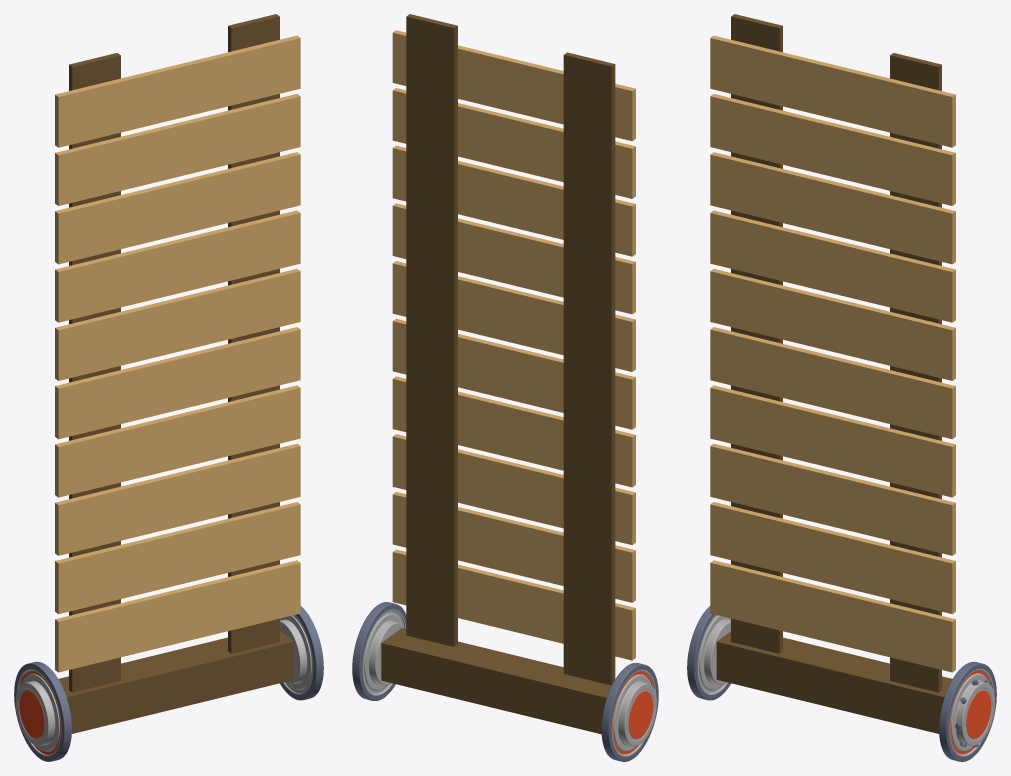
3 views of the same model, side by side, from view 1: azimuth 30°, elevation 25°; view 2: azimuth 150°, elevation 25°; view 3: azimuth 330°, elevation 25° (orthographic).
Visible parts, largest first — view 1: Cube.755, Cube.757, Cube.756, Cylinder.066; view 2: Cube.755, Cube.756, Cube.757, Cylinder.066; view 3: Cube.755, Cube.757, Cube.756, Cylinder.066.
Part boxes in pixels (<box>): Cube.755: <box>55,35,300,672</box>; Cube.757: <box>58,631,294,733</box>; Cube.756: <box>69,14,279,692</box>; Cylinder.066: <box>14,606,323,761</box>; Cube.755: <box>392,30,635,660</box>; Cube.756: <box>406,14,615,685</box>; Cube.757: <box>381,628,611,734</box>; Cylinder.066: <box>352,602,658,761</box>; Cube.755: <box>710,35,955,672</box>; Cube.757: <box>716,631,952,733</box>; Cube.756: <box>731,14,941,692</box>; Cylinder.066: <box>687,606,996,761</box>.
Size of the model in its own units: 226 by 545 by 72.12.
